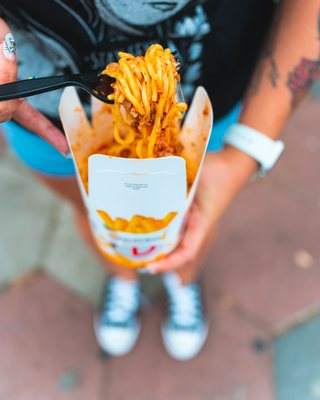burger: (0, 69, 117, 105)
pizza: (85, 155, 192, 275)
